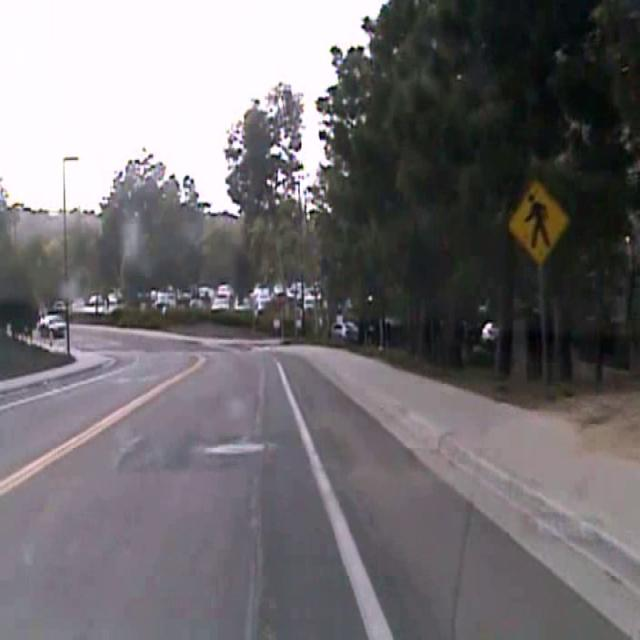pedestrianCrossing: (507, 177, 569, 264)
